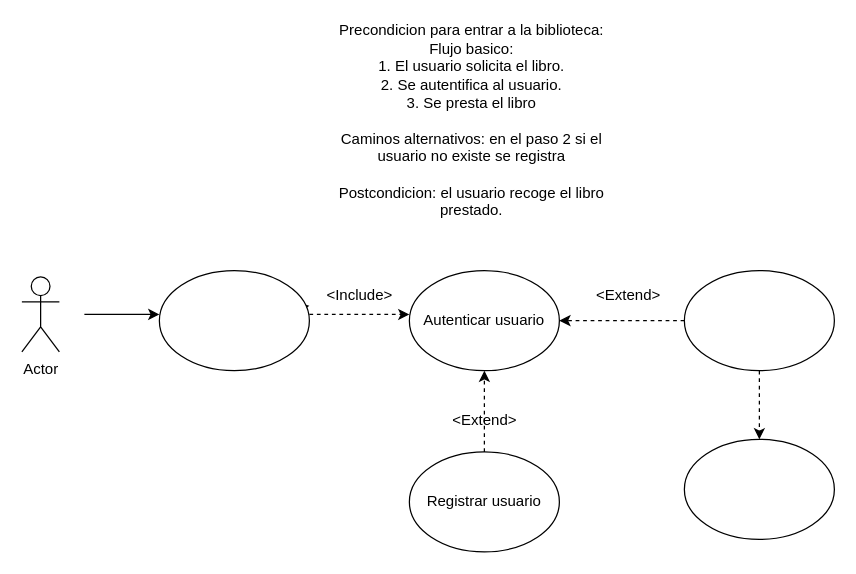
This 856x574 diagram has some shape labels left out. The shapes that lost their labels are listed below. From the top down, each one's centre as x and y in pixels, then its label:
At (x=233, y=320): "Pedir libro".
At (x=758, y=320): "Enviar notificación".
